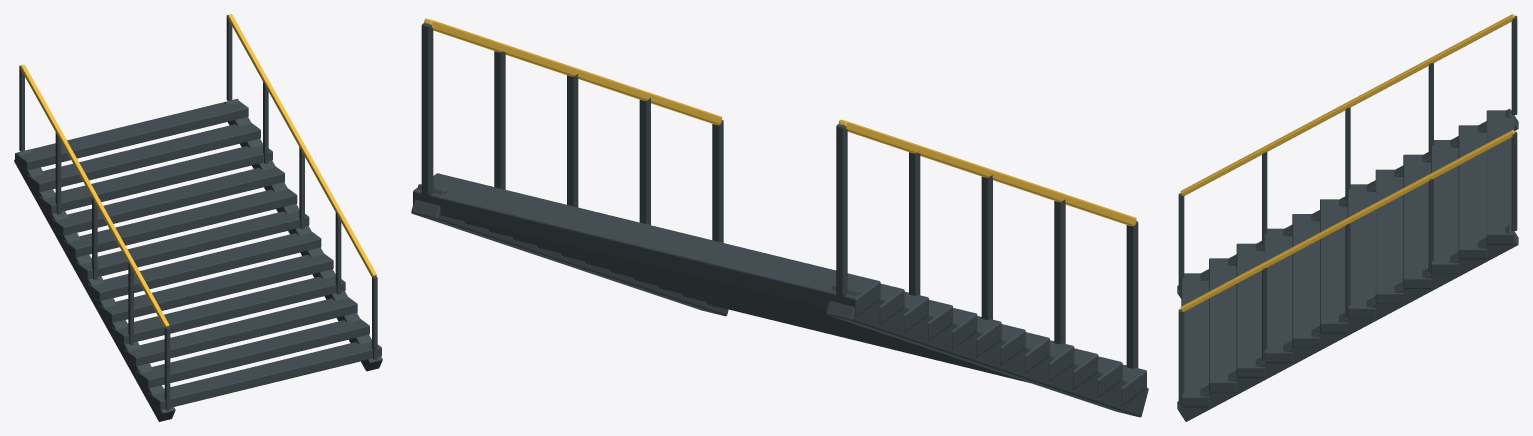
The picture shows the model from 3 angles, left to right: view 1: azimuth 30°, elevation 25°; view 2: azimuth 150°, elevation 25°; view 3: azimuth 270°, elevation 25°; orthographic projection. The views are drawn at different scales.
Visible parts, largest first — view 1: B06_CTL_Stair_tread_0_2, B06_CTL_Stair_tread_0_1, B06_CTL_Stair_tread_0_0, B06_CTL_Stair_tread_0_5, B06_CTL_Stair_tread_0_7, B06_CTL_Stair_tread_0_11, B06_CTL_Stair_tread_0_4, B06_CTL_Stair_tread_0_10, B06_CTL_Stair_tread_0_8, B06_CTL_Stair_tread_0_3, B06_CTL_Stair_tread_0_6, B06_CTL_Stair_tread_0_9 (+14 smaller); view 2: B06_CTL_Stair_tread_0_11, B06_CTL_Stair_stringer, B06_CTL_Stair_stringer.001, B06_CTL_Stair_handrail.001, B06_CTL_Stair_handrail, B06_CTL_Stair_post.009, B06_CTL_Stair_post.004, B06_CTL_Stair_post, B06_CTL_Stair_tread_0_10, B06_CTL_Stair_post.001, B06_CTL_Stair_post.002, B06_CTL_Stair_post.003 (+14 smaller); view 3: B06_CTL_Stair_stringer.001, B06_CTL_Stair_tread_0_10, B06_CTL_Stair_tread_0_7, B06_CTL_Stair_tread_0_1, B06_CTL_Stair_tread_0_4, B06_CTL_Stair_tread_0_11, B06_CTL_Stair_tread_0_6, B06_CTL_Stair_tread_0_2, B06_CTL_Stair_tread_0_3, B06_CTL_Stair_tread_0_8, B06_CTL_Stair_tread_0_5, B06_CTL_Stair_tread_0_0 (+14 smaller).
Part boxes in pixels (bbox=[...]): B06_CTL_Stair_tread_0_2: bbox=[124, 297, 357, 366]; B06_CTL_Stair_tread_0_1: bbox=[136, 319, 369, 388]; B06_CTL_Stair_tread_0_0: bbox=[148, 341, 381, 410]; B06_CTL_Stair_tread_0_5: bbox=[87, 232, 321, 301]; B06_CTL_Stair_tread_0_7: bbox=[63, 188, 297, 257]; B06_CTL_Stair_tread_0_11: bbox=[15, 101, 248, 170]; B06_CTL_Stair_tread_0_4: bbox=[99, 253, 333, 322]; B06_CTL_Stair_tread_0_10: bbox=[27, 123, 260, 192]; B06_CTL_Stair_tread_0_8: bbox=[51, 167, 284, 235]; B06_CTL_Stair_tread_0_3: bbox=[112, 276, 345, 344]; B06_CTL_Stair_tread_0_6: bbox=[75, 211, 309, 279]; B06_CTL_Stair_tread_0_9: bbox=[39, 146, 272, 214]; B06_CTL_Stair_tread_0_11: bbox=[413, 173, 880, 316]; B06_CTL_Stair_stringer: bbox=[826, 285, 1148, 417]; B06_CTL_Stair_stringer.001: bbox=[411, 184, 728, 316]; B06_CTL_Stair_handrail.001: bbox=[424, 18, 722, 125]; B06_CTL_Stair_handrail: bbox=[838, 119, 1136, 226]; B06_CTL_Stair_post.009: bbox=[421, 23, 433, 195]; B06_CTL_Stair_post.004: bbox=[836, 124, 847, 296]; B06_CTL_Stair_post: bbox=[1126, 221, 1138, 368]; B06_CTL_Stair_tread_0_10: bbox=[464, 221, 904, 324]; B06_CTL_Stair_post.001: bbox=[1054, 199, 1065, 344]; B06_CTL_Stair_post.002: bbox=[981, 175, 992, 320]; B06_CTL_Stair_post.003: bbox=[909, 151, 920, 295]; B06_CTL_Stair_stringer.001: bbox=[1177, 224, 1518, 421]; B06_CTL_Stair_tread_0_10: bbox=[1458, 125, 1486, 259]; B06_CTL_Stair_tread_0_7: bbox=[1375, 169, 1403, 303]; B06_CTL_Stair_tread_0_1: bbox=[1209, 258, 1237, 392]; B06_CTL_Stair_tread_0_4: bbox=[1292, 214, 1320, 347]; B06_CTL_Stair_tread_0_11: bbox=[1486, 110, 1514, 244]; B06_CTL_Stair_tread_0_6: bbox=[1347, 184, 1375, 318]; B06_CTL_Stair_tread_0_2: bbox=[1236, 243, 1264, 377]; B06_CTL_Stair_tread_0_3: bbox=[1264, 228, 1292, 362]; B06_CTL_Stair_tread_0_8: bbox=[1403, 154, 1431, 288]; B06_CTL_Stair_tread_0_5: bbox=[1320, 199, 1348, 333]; B06_CTL_Stair_tread_0_0: bbox=[1181, 273, 1209, 407].
Bounding box in the file's own units: 3 × 3.24 × 3.48.
